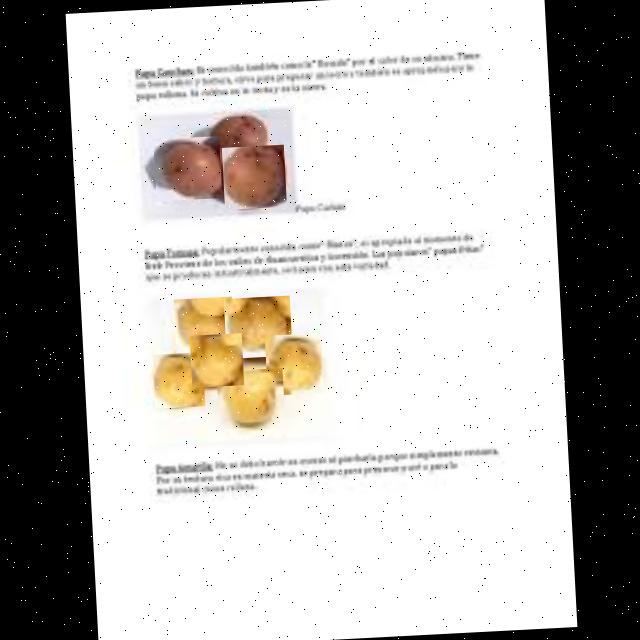Defected potato: (152, 136, 222, 200), (221, 144, 286, 209), (208, 112, 269, 164)
Potato: (222, 295, 292, 358), (216, 368, 284, 428), (264, 332, 322, 395), (172, 296, 234, 354), (188, 332, 244, 387), (152, 351, 204, 408)
